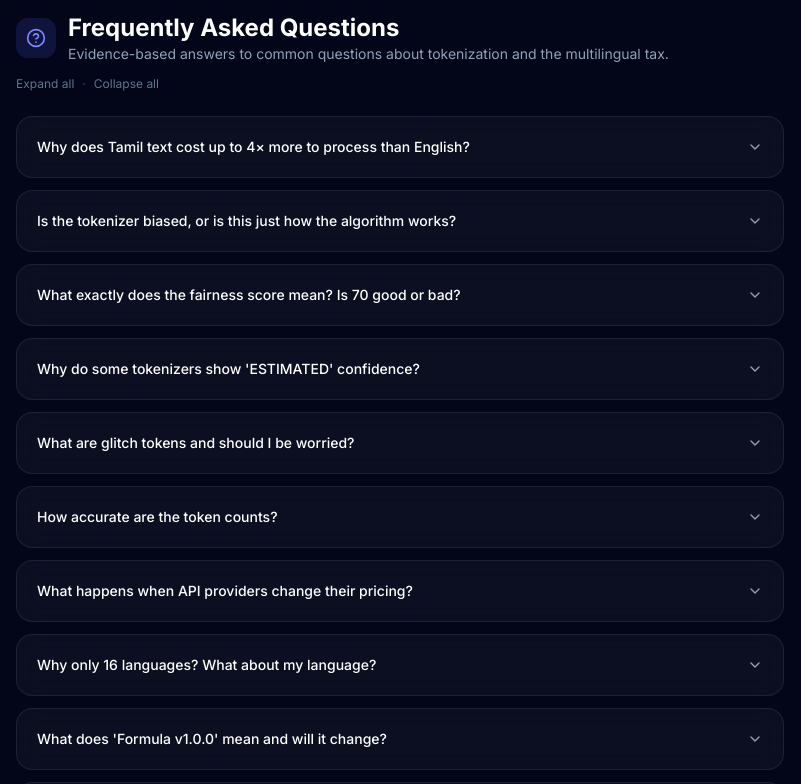
Test case: FAQPage › expands a FAQ item on click
The width and height of the screenshot is (801, 784).
Click the button "Why does Tamil text cost up to 4× more".
click(400, 147)  # box [17,117,783,177]
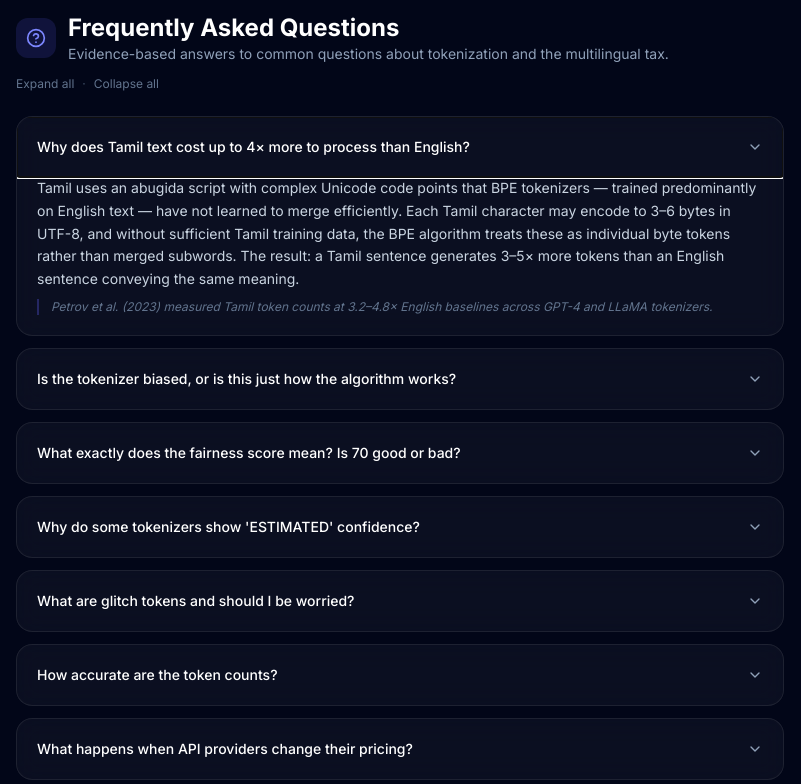
Result: the text "abugida script" is shown at [37,179,756,287]
